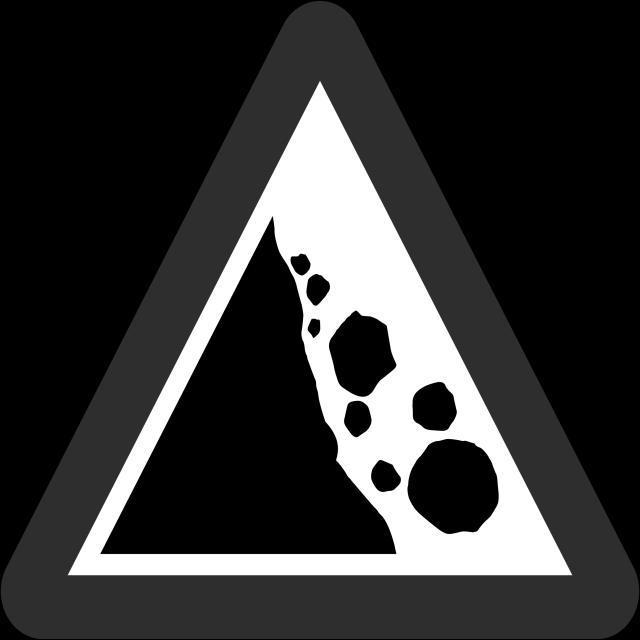falling rocks: (33, 41, 615, 620)
